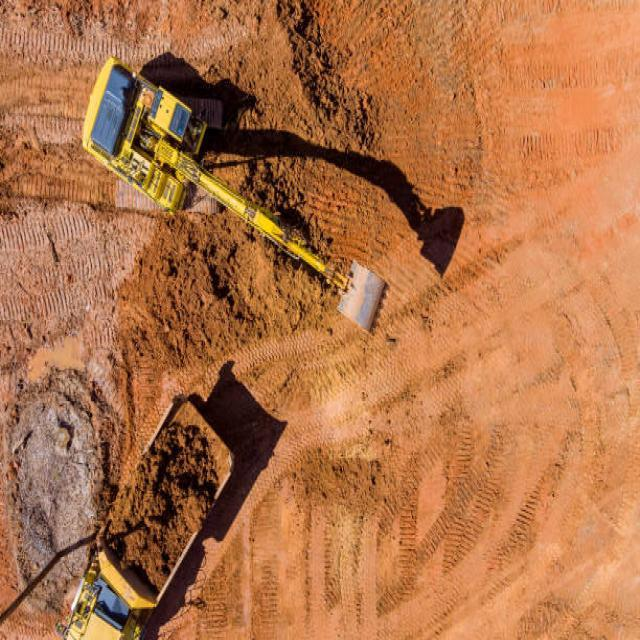excavator: (82, 58, 387, 331)
